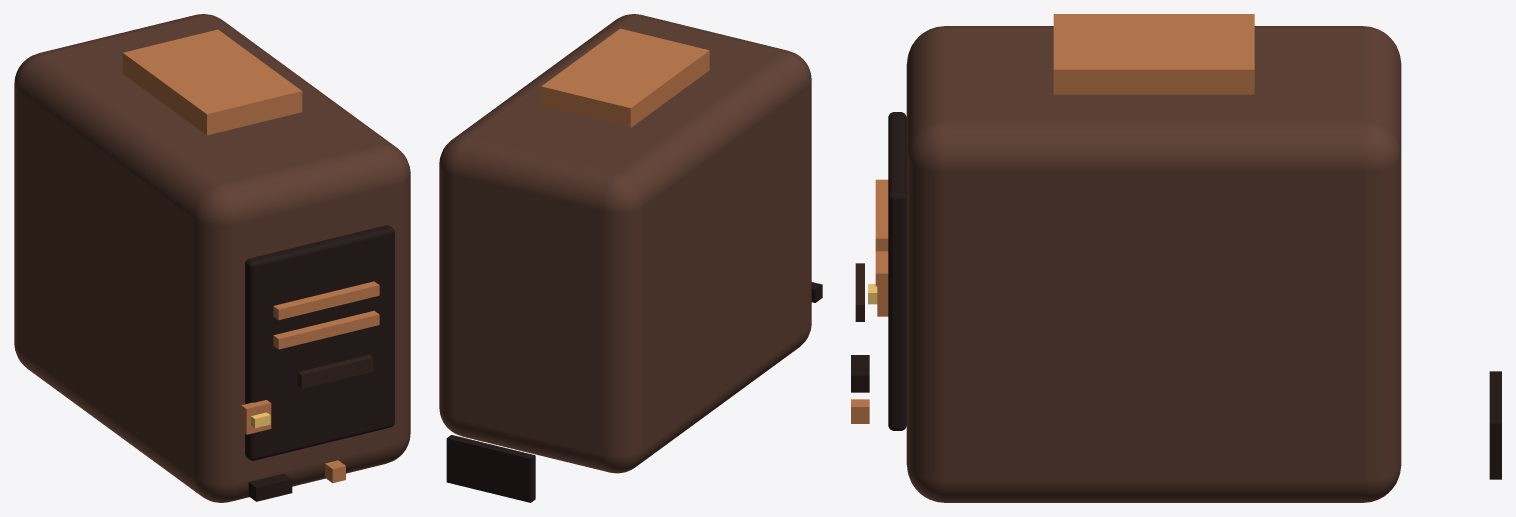
3 views of the same model, side by side, from view 1: azimuth 30°, elevation 25°; view 2: azimuth 150°, elevation 25°; view 3: azimuth 270°, elevation 25° (orthographic). The views are drawn at different scales.
Visible parts, largest first — view 1: computer-body, front-bay, carry-handle, drive-slot, drive-slot-lower, screen-surface, computer-detail, power-button; view 2: computer-body, carry-handle, power-port-back; view 3: computer-body, carry-handle, front-bay, power-port-back, drive-slot, computer-detail.
Part boxes in pixels (<box>): computer-body: <box>14,14,410,502</box>; front-bay: <box>245,225,394,460</box>; carry-handle: <box>122,29,302,135</box>; drive-slot: <box>273,281,379,320</box>; drive-slot-lower: <box>273,310,379,349</box>; screen-surface: <box>297,355,373,389</box>; computer-detail: <box>248,473,292,501</box>; power-button: <box>241,400,271,434</box>; computer-body: <box>439,14,811,473</box>; carry-handle: <box>541,28,709,127</box>; power-port-back: <box>446,435,535,502</box>; computer-body: <box>906,26,1401,502</box>; carry-handle: <box>1053,14,1254,94</box>; front-bay: <box>888,112,906,430</box>; power-port-back: <box>1489,371,1501,479</box>; drive-slot: <box>875,179,888,251</box>; computer-detail: <box>851,355,869,392</box>.
Size of the model in its own units: 0.19 by 0.294 by 0.421.
